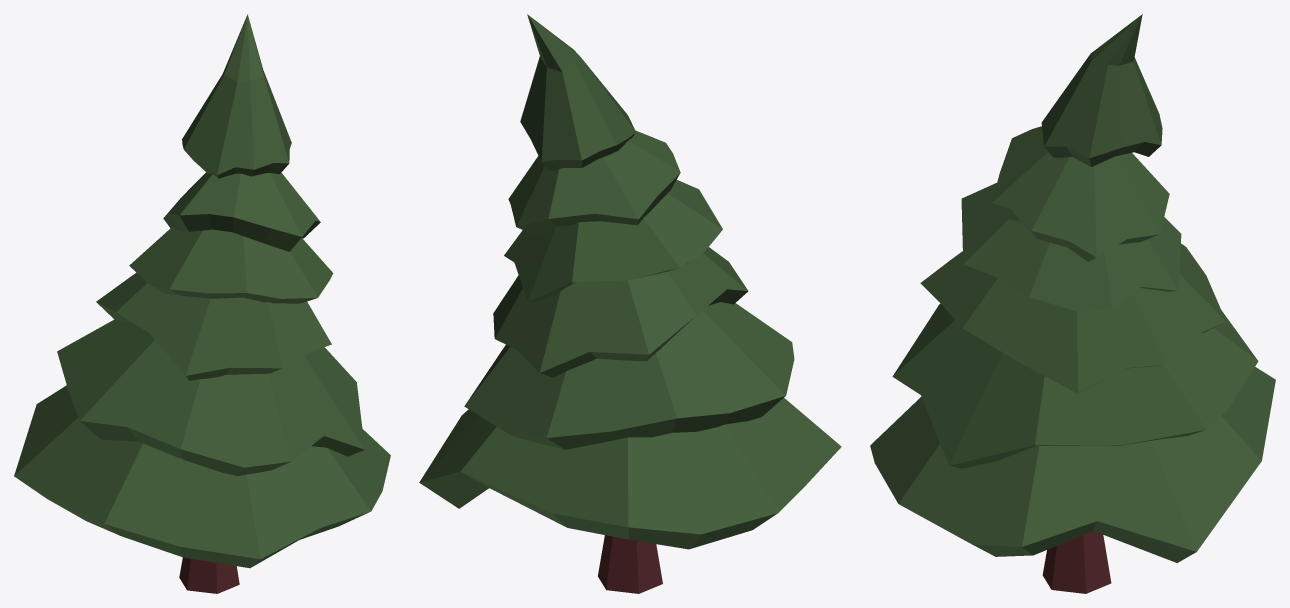
The model's file is spruce2.fbx.
3 views of the same model, side by side, from view 1: azimuth 30°, elevation 25°; view 2: azimuth 150°, elevation 25°; view 3: azimuth 270°, elevation 25° (orthographic). The views are drawn at different scales.
Parts seen in each view (by area): view 1: Cone.001, Cylinder.001; view 2: Cone.001, Cylinder.001; view 3: Cone.001, Cylinder.001.
Part boxes in pixels (x1,y1,x2,y2): Cone.001: [14, 14, 390, 568]; Cylinder.001: [179, 557, 239, 593]; Cone.001: [419, 14, 841, 549]; Cylinder.001: [598, 535, 662, 593]; Cone.001: [870, 14, 1275, 562]; Cylinder.001: [1042, 531, 1111, 593].
Bounding box in the file's own units: 357 × 559 × 341.
